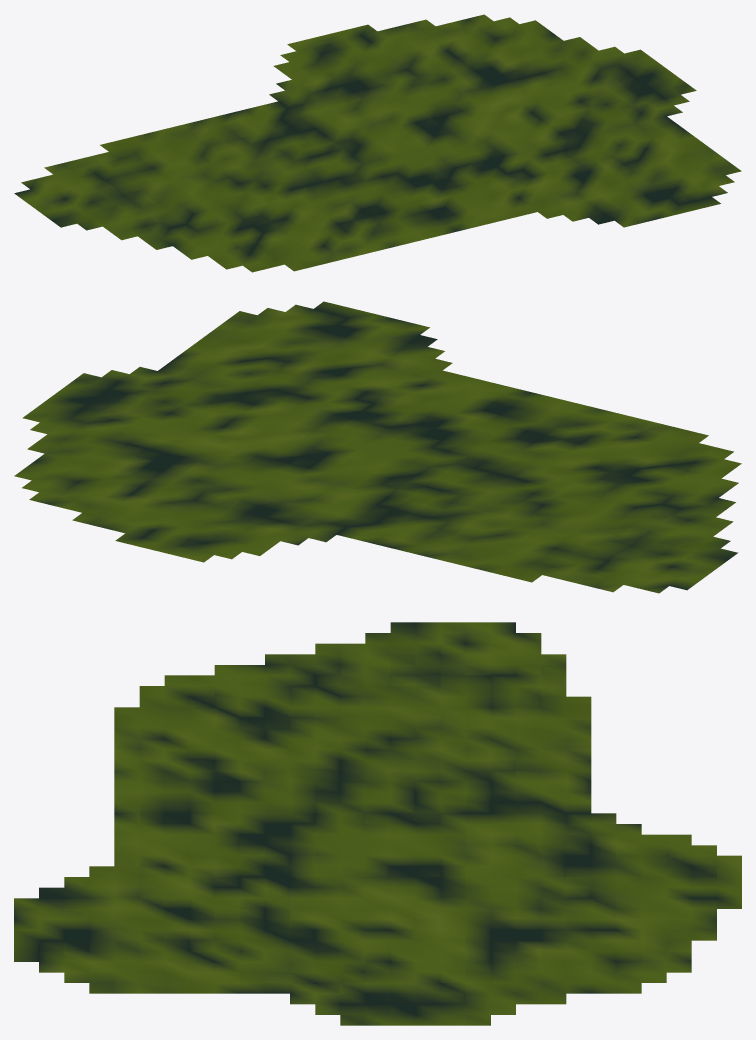
File: ISL2_SwampAlgae.fbx
3 renders of one model, top to bottom at view 1: azimuth 30°, elevation 25°; view 2: azimuth 150°, elevation 25°; view 3: azimuth 270°, elevation 25°, orthographic. The views are drawn at different scales.
Visible parts, largest first — view 1: ISL2_SwampAlgae.001; view 2: ISL2_SwampAlgae.001; view 3: ISL2_SwampAlgae.001.
Boxes of the visible parts, <box> form: ISL2_SwampAlgae.001: <box>14,14,741,272</box>; ISL2_SwampAlgae.001: <box>14,301,741,593</box>; ISL2_SwampAlgae.001: <box>14,622,741,1025</box>.
Size of the model in its own units: 22.8 by 0 by 17.4.
